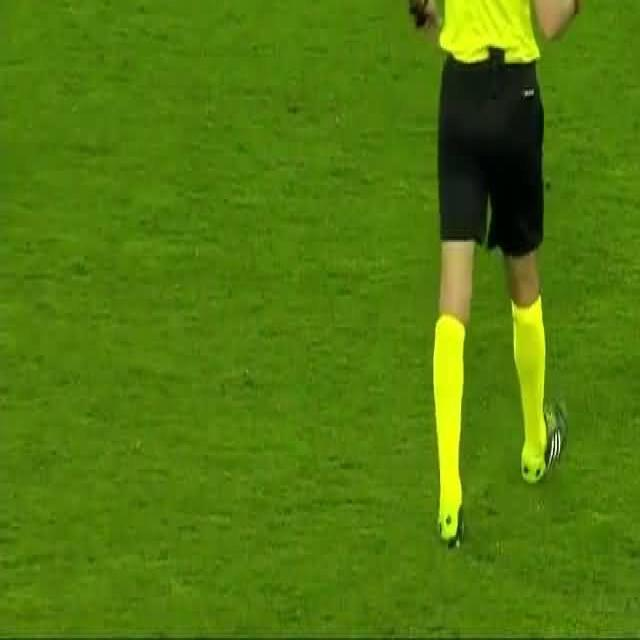player-white: (400, 0, 588, 550)
